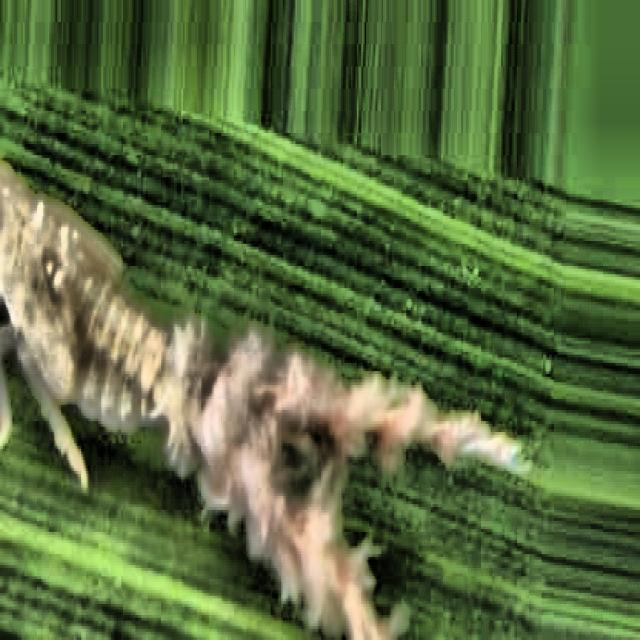Pyrilla-perpusilla: (1, 202, 544, 640)
